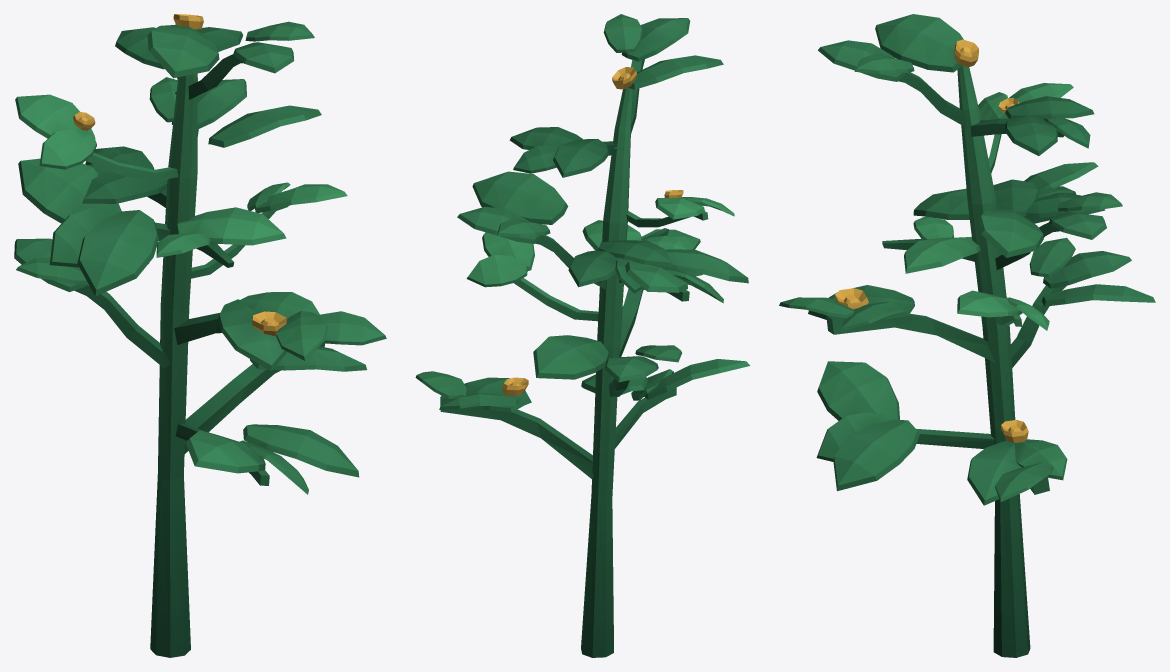
Rendered from crop_tomato_stage2.glb.
3 renders of one model, left to right at view 1: azimuth 30°, elevation 25°; view 2: azimuth 150°, elevation 25°; view 3: azimuth 270°, elevation 25°, orthographic. The views are drawn at different scales.
Parts seen in each view (by area): view 1: crop_tomato_stage2; view 2: crop_tomato_stage2; view 3: crop_tomato_stage2.
Boxes of the visible parts, x1,y1,x2,y2 form: crop_tomato_stage2: [14, 14, 386, 657]; crop_tomato_stage2: [415, 14, 750, 657]; crop_tomato_stage2: [779, 14, 1155, 657].
Size of the model in its own units: 0.3457 by 0.62 by 0.3466.
1 material, 1 textured.
